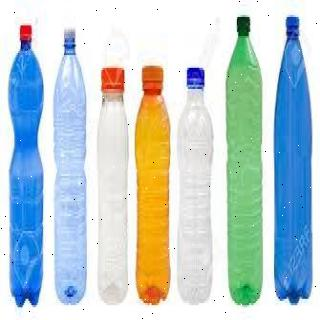Plastic-bottle: (225, 14, 267, 313), (273, 14, 316, 306), (8, 20, 46, 315), (52, 23, 90, 311), (176, 65, 215, 308), (135, 61, 173, 309), (96, 63, 130, 309)
